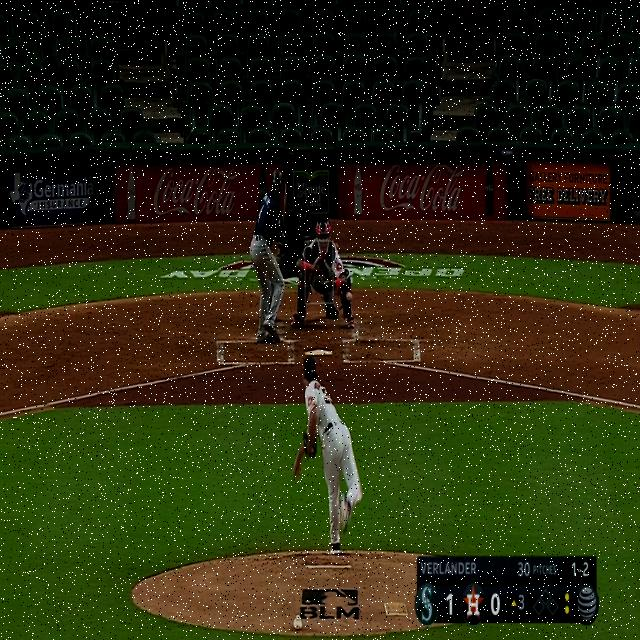baseball: (346, 292, 353, 301)
